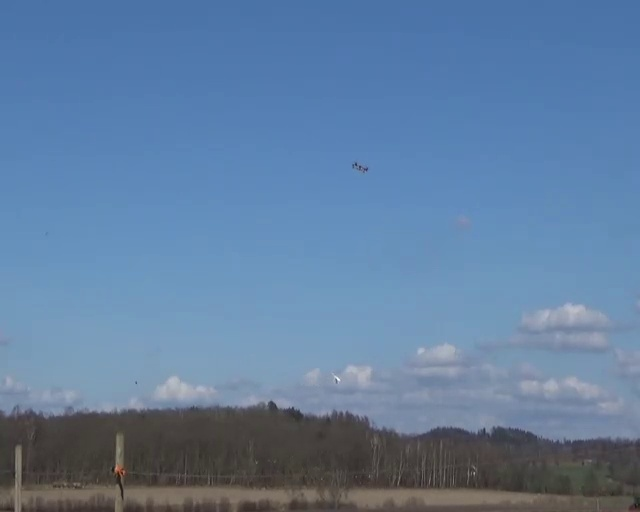DRONE: (352, 161, 369, 172)
